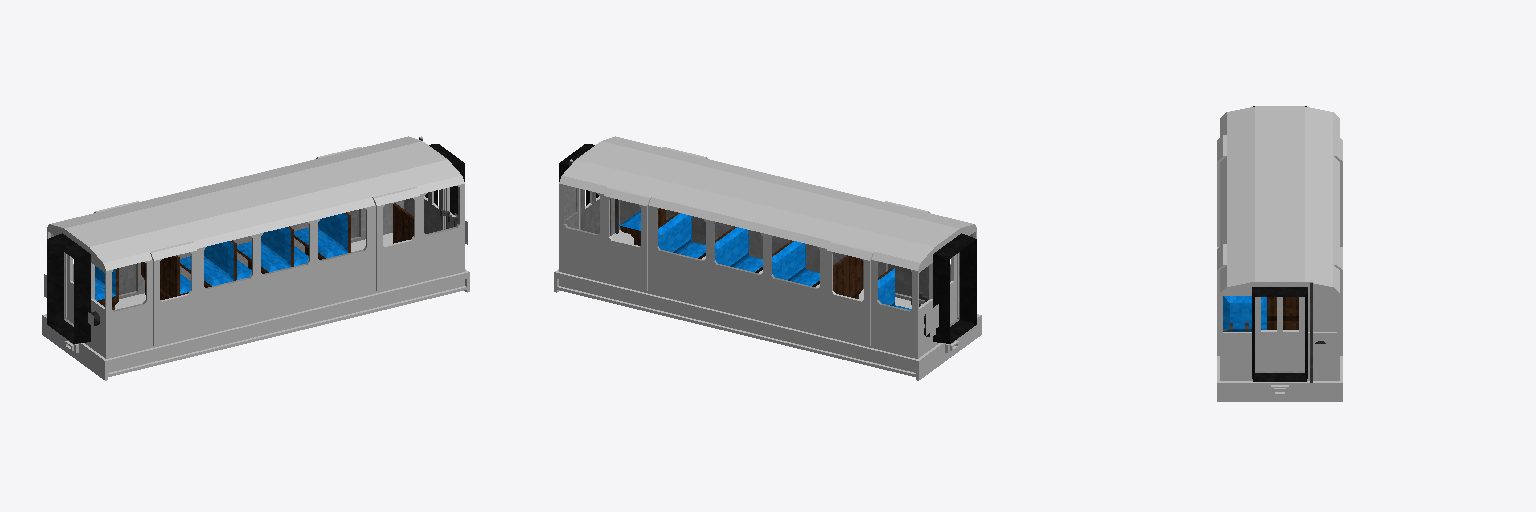
3 views of the same model, side by side, from view 1: azimuth 30°, elevation 25°; view 2: azimuth 150°, elevation 25°; view 3: azimuth 270°, elevation 25° (orthographic).
Visible parts, largest first — view 1: FRAME_0_body, FRAME_corridor.001, DOOR_2_EXTERNAL_TOGGLE_CG_leftdoor_TL_-1_X, DOOR_1_EXTERNAL_TOGGLE_CG_leftdoor_TL_1_X, FRAME_0_body.001, FRAME_1, FRAME_3, FRAME_2, FRAME_bench.001, FRAME_bench.002, FRAME_bench.003, FRAME_end1 (+6 smaller); view 2: FRAME_0_body, FRAME_corridor.001, FRAME_0_body.001, DOOR_4_EXTERNAL_TOGGLE_CG_rightdoor_TL_-1_X, DOOR_3_EXTERNAL_TOGGLE_CG_rightdoor_TL_1_X, FRAME_1, FRAME_3, FRAME_2, FRAME_end1, FRAME_bench.003, FRAME_bench.002, FRAME_bench.001 (+5 smaller); view 3: FRAME_0_body, FRAME_end2, FRAME_corridor.002, DOOR_7_CONNECTING_CG_rearend, DOOR_8_CONNECTING_CG_rearend, FRAME_bench.005, FRAME_bench.003, HEADLIGHT_4_0xFFF0E1_LCG_REVERSERBACKWARD.
Boxes of the visible parts, box(x1,y1,x2,y2) form: FRAME_0_body: box(47, 136, 464, 358); FRAME_corridor.001: box(47, 233, 90, 343); DOOR_2_EXTERNAL_TOGGLE_CG_leftdoor_TL_-1_X: box(372, 187, 420, 291); DOOR_1_EXTERNAL_TOGGLE_CG_leftdoor_TL_1_X: box(150, 241, 197, 345); FRAME_0_body.001: box(51, 187, 459, 326); FRAME_1: box(115, 293, 235, 371); FRAME_3: box(337, 235, 443, 320); FRAME_2: box(234, 303, 338, 345); FRAME_bench.001: box(237, 226, 308, 273); FRAME_bench.002: box(180, 240, 251, 287); FRAME_bench.003: box(294, 212, 350, 259); FRAME_end1: box(42, 314, 130, 380); FRAME_0_body: box(559, 136, 976, 358); FRAME_corridor.001: box(933, 233, 976, 343); FRAME_0_body.001: box(564, 186, 972, 326); DOOR_4_EXTERNAL_TOGGLE_CG_rightdoor_TL_-1_X: box(603, 187, 651, 291); DOOR_3_EXTERNAL_TOGGLE_CG_rightdoor_TL_1_X: box(826, 241, 873, 345); FRAME_1: box(788, 289, 922, 371); FRAME_3: box(580, 240, 705, 320); FRAME_2: box(685, 270, 819, 345); FRAME_end1: box(893, 314, 981, 380); FRAME_bench.003: box(658, 212, 705, 258); FRAME_bench.002: box(772, 240, 819, 286); FRAME_bench.001: box(715, 226, 762, 272); FRAME_0_body: box(1220, 106, 1339, 380); FRAME_end2: box(1217, 370, 1342, 401); FRAME_corridor.002: box(1252, 287, 1307, 381); DOOR_7_CONNECTING_CG_rearend: box(1256, 297, 1279, 370); DOOR_8_CONNECTING_CG_rearend: box(1280, 297, 1303, 370); FRAME_bench.005: box(1223, 296, 1266, 331); FRAME_bench.003: box(1267, 297, 1298, 329); HEADLIGHT_4_0xFFF0E1_LCG_REVERSERBACKWARD: box(1227, 338, 1251, 360).
Size of the model in its own units: 9 by 2.78 by 2.5.
8 materials, 4 textured.